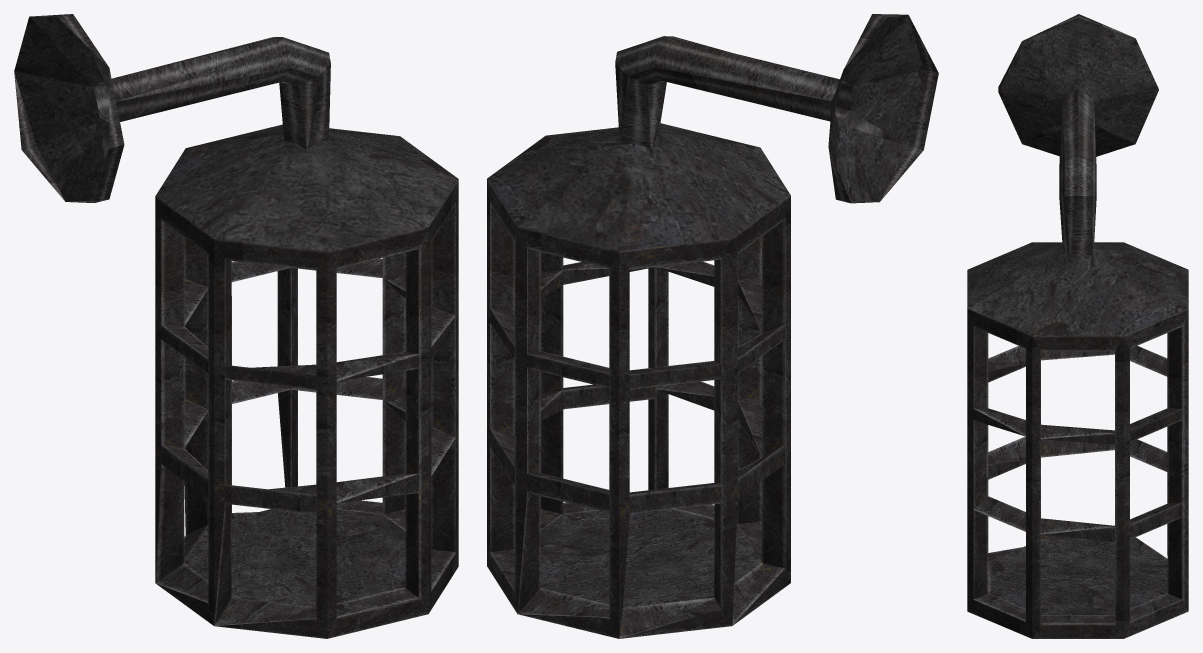
Rendered from tavern_lamp1_LOD.dae.
The picture shows the model from 3 angles, left to right: view 1: azimuth 30°, elevation 25°; view 2: azimuth 150°, elevation 25°; view 3: azimuth 270°, elevation 25°; orthographic projection. The views are drawn at different scales.
Visible parts, largest first — view 1: Default_Layer; view 2: Default_Layer; view 3: Default_Layer.
Part boxes in pixels (x1,y1,x2,y2): Default_Layer: (14,14,458,638); Default_Layer: (487,14,938,638); Default_Layer: (967,14,1188,638).
Bounding box in the file's own units: 0.7003 × 1.11 × 0.4621.
